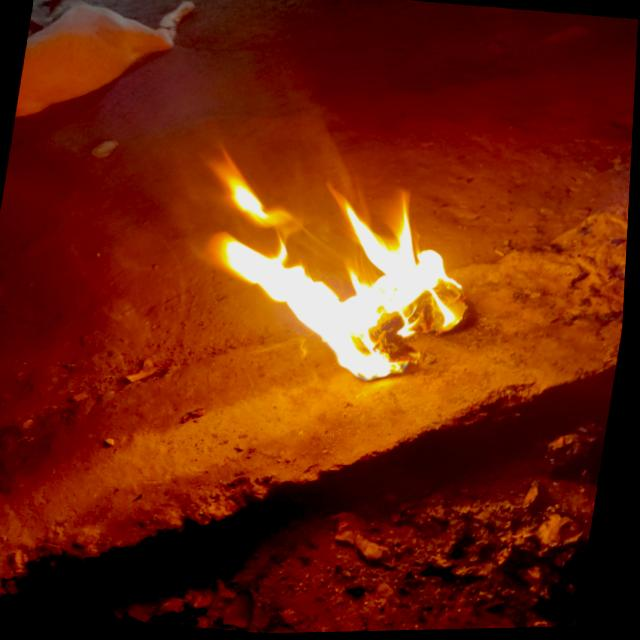helmet: (172, 138, 493, 394)
